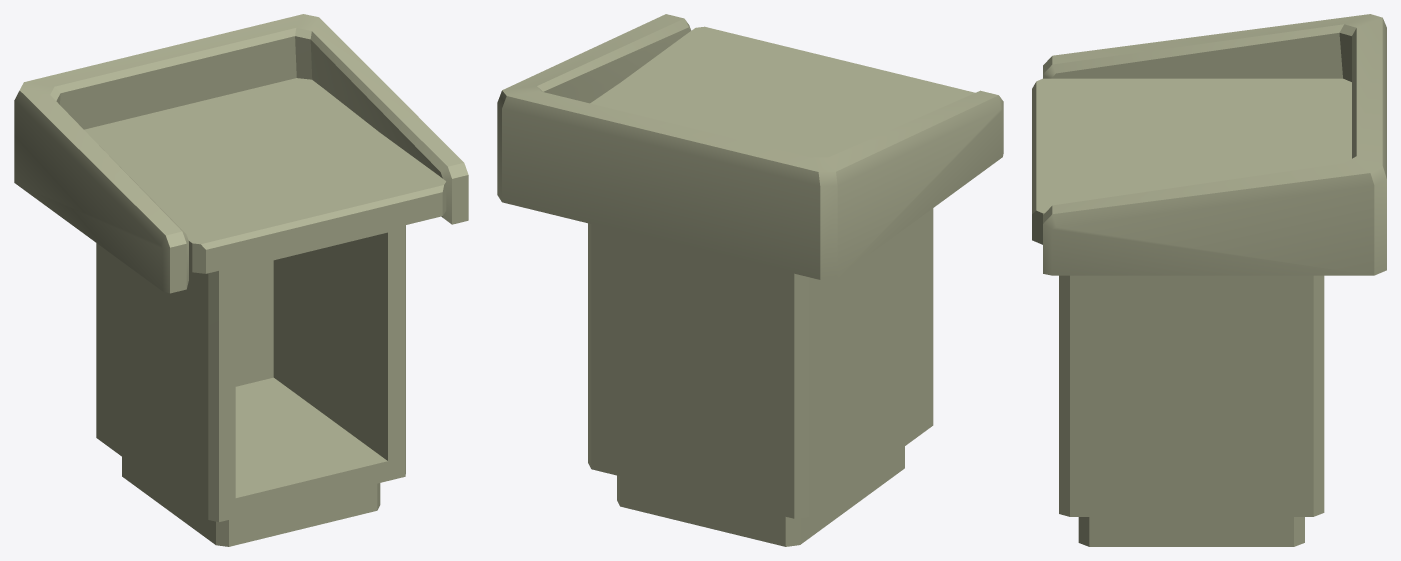
File: Podium.FBX
3 views of the same model, side by side, from view 1: azimuth 30°, elevation 25°; view 2: azimuth 150°, elevation 25°; view 3: azimuth 270°, elevation 25° (orthographic). The views are drawn at different scales.
Visible parts, largest first — view 1: Podium; view 2: Podium; view 3: Podium.
Part boxes in pixels (bbox=[...]): Podium: bbox=[14, 14, 468, 546]; Podium: bbox=[497, 14, 1003, 546]; Podium: bbox=[1032, 14, 1386, 546].
Bounding box in the file's own units: 34.14 × 40.43 × 31.57.
